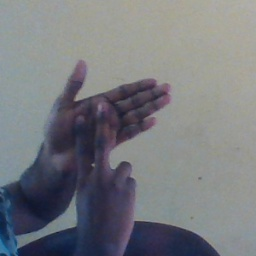N: (36, 57, 171, 204)
